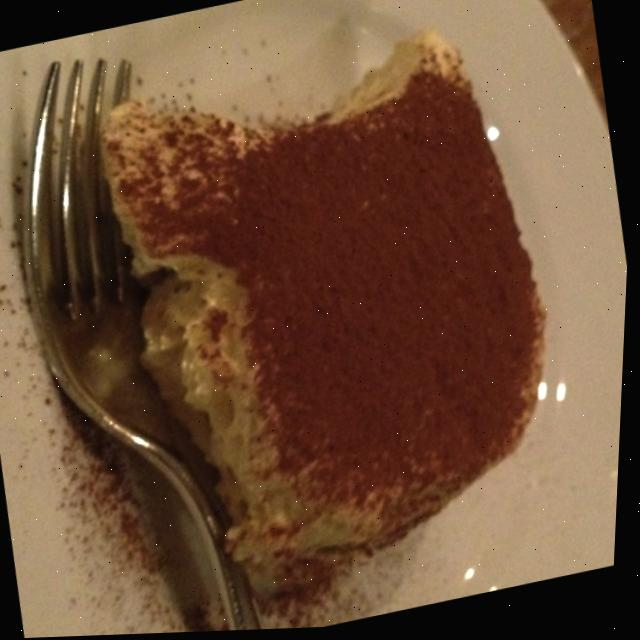蛋糕甜品: (36, 0, 608, 638)
